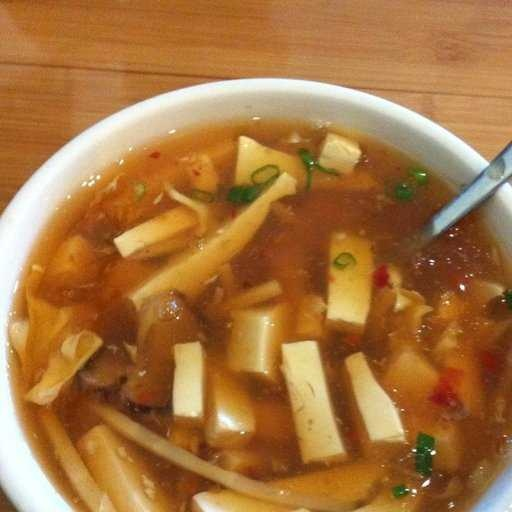soup: (1, 89, 505, 510)
